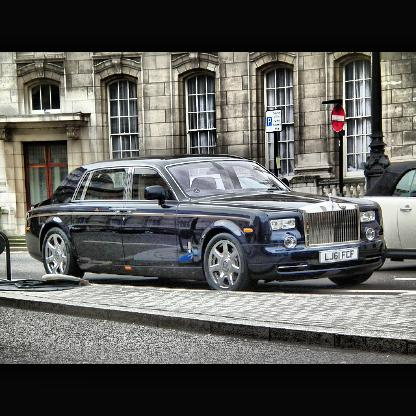Rolls-Royce Phantom Sedan 2012: (13, 136, 395, 311)
